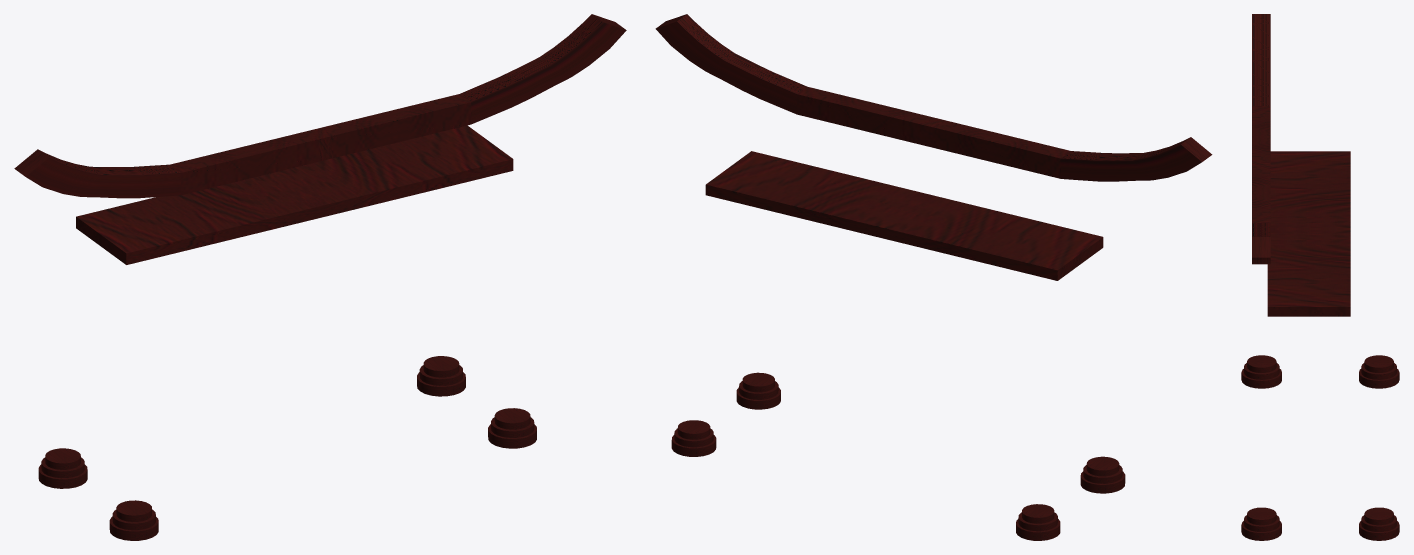
The model's file is stall_top.obj.
The picture shows the model from 3 angles, left to right: view 1: azimuth 30°, elevation 25°; view 2: azimuth 150°, elevation 25°; view 3: azimuth 270°, elevation 25°; orthographic projection. The views are drawn at different scales.
Bounding box in the file's own units: 139 × 88.32 × 38.38.
